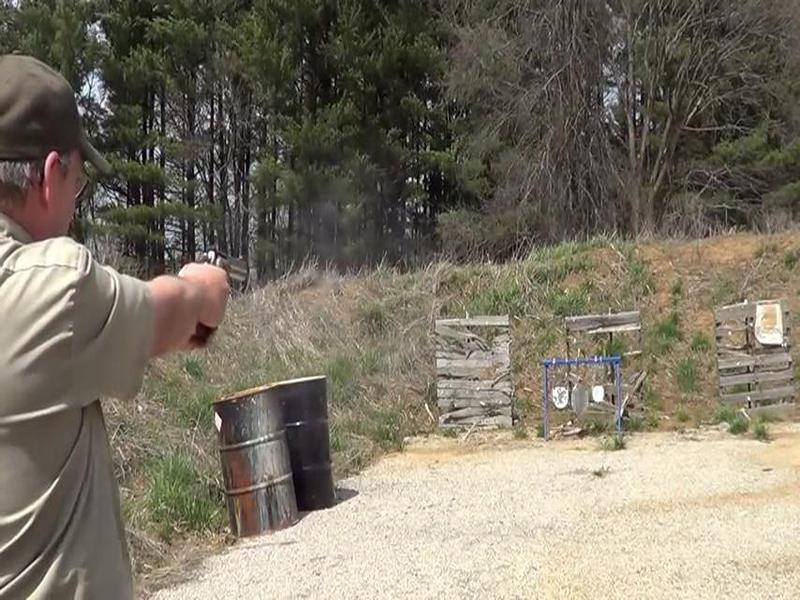Revolver: (176, 235, 261, 306)
